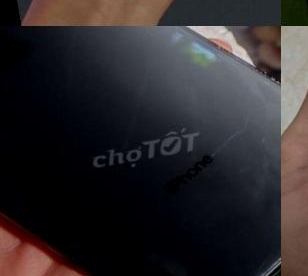scratch: (249, 52, 281, 110), (206, 32, 237, 65)
